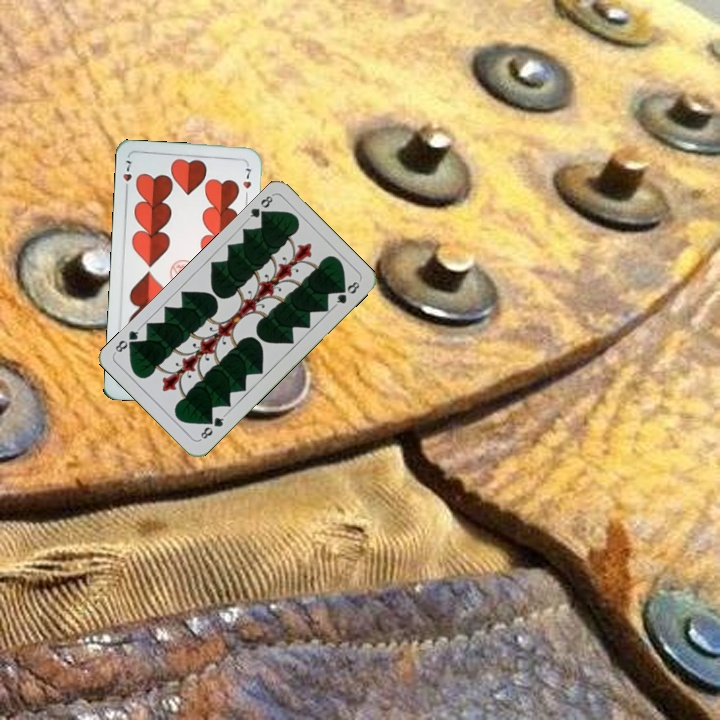G8: (243, 190, 276, 223), (196, 411, 228, 443)
H7: (119, 156, 135, 195)
